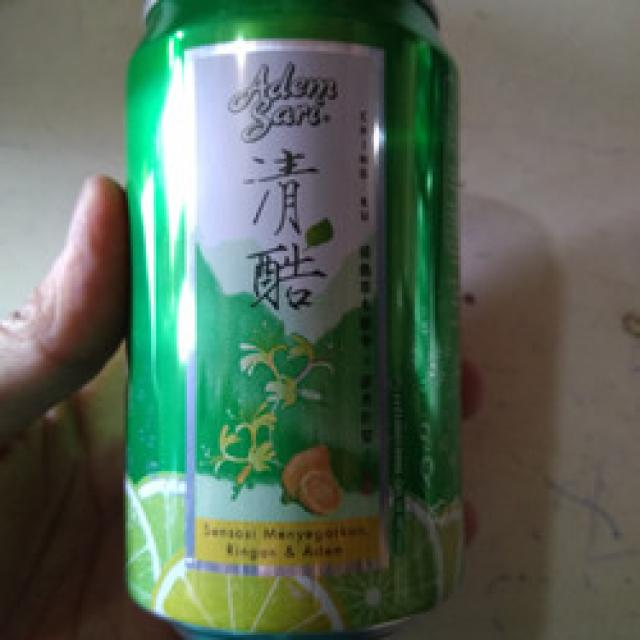ademsarikaleng: (118, 0, 466, 637)
